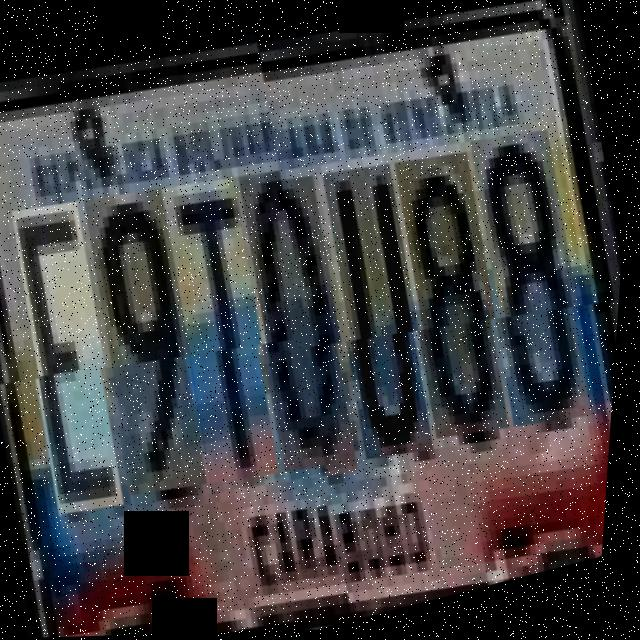8: (454, 112, 615, 426), (380, 136, 532, 439)
9: (72, 186, 235, 511)
E: (0, 202, 155, 532)
O: (226, 162, 384, 485)
T: (149, 175, 306, 497)
U: (307, 149, 458, 460)
